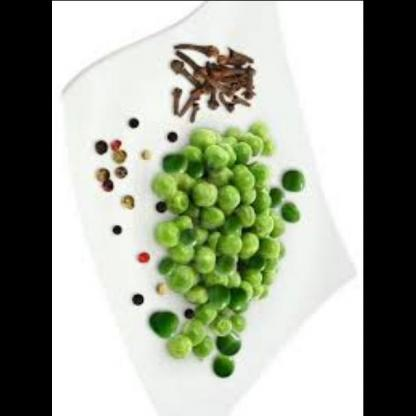peas: (150, 110, 318, 372)
